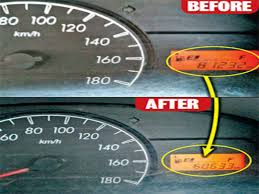Digital_Meter: (165, 43, 258, 74), (164, 146, 251, 172)
